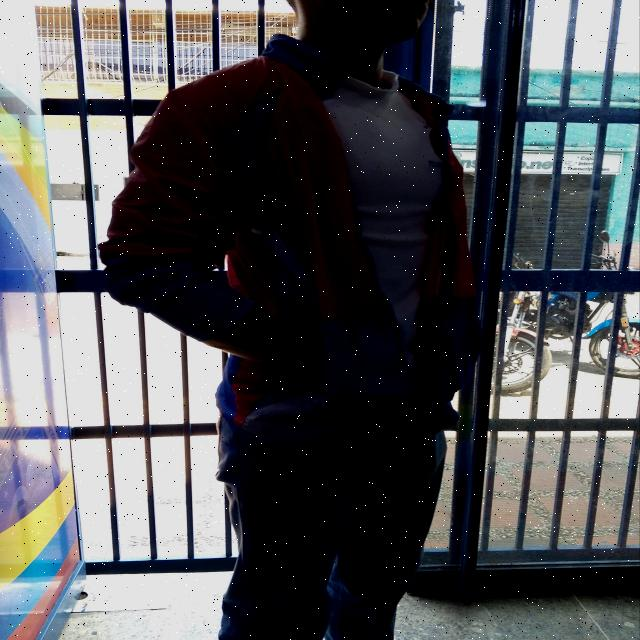chaqueta_unefa: (96, 33, 484, 449)
